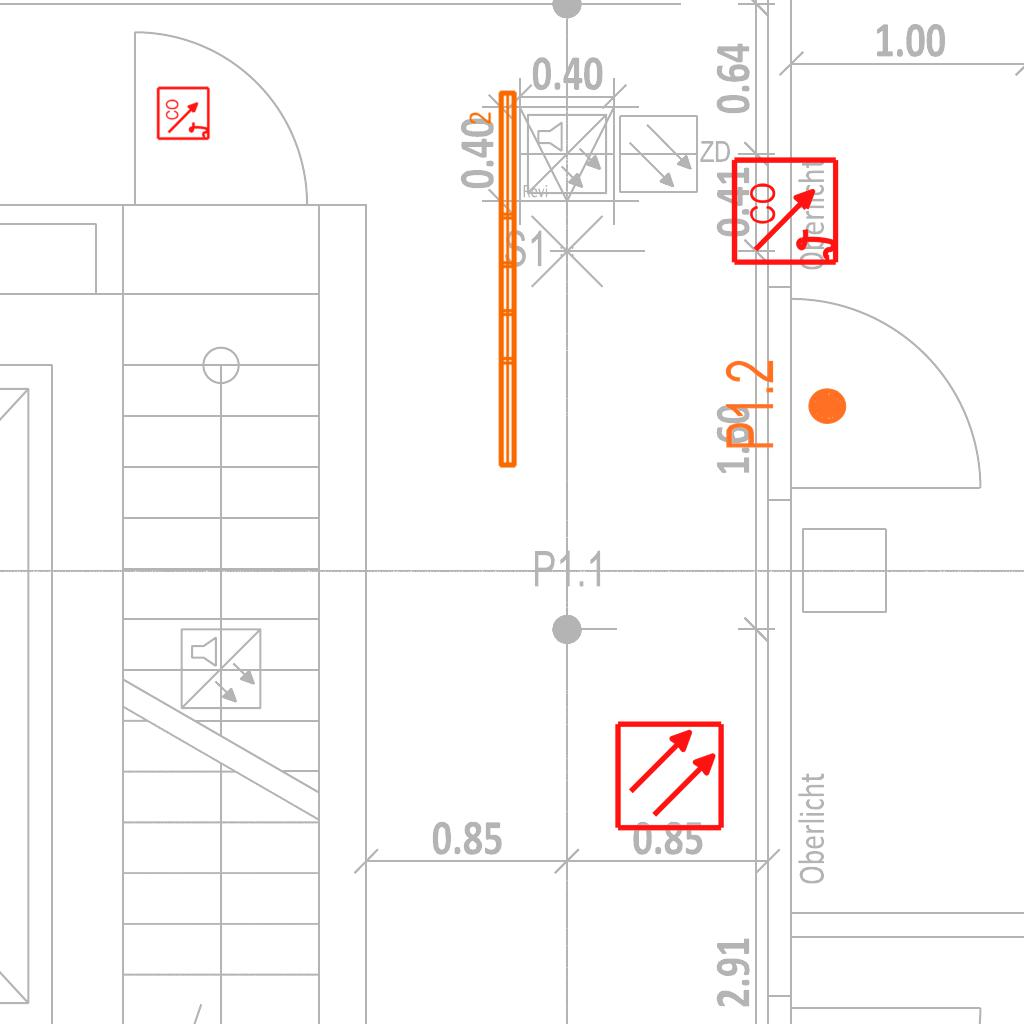Ambulanz_Pendelleuchte_LED: (467, 86, 523, 473)
Downlight_LED_Einbauleuchten_Flur: (722, 358, 850, 451)
RMO_Rauchmelder_optischer: (613, 719, 726, 832)
ROA_Rauchmelder_optisch_mit_Signalgeber_(Sockelsirene): (730, 154, 843, 267), (156, 85, 212, 141)
